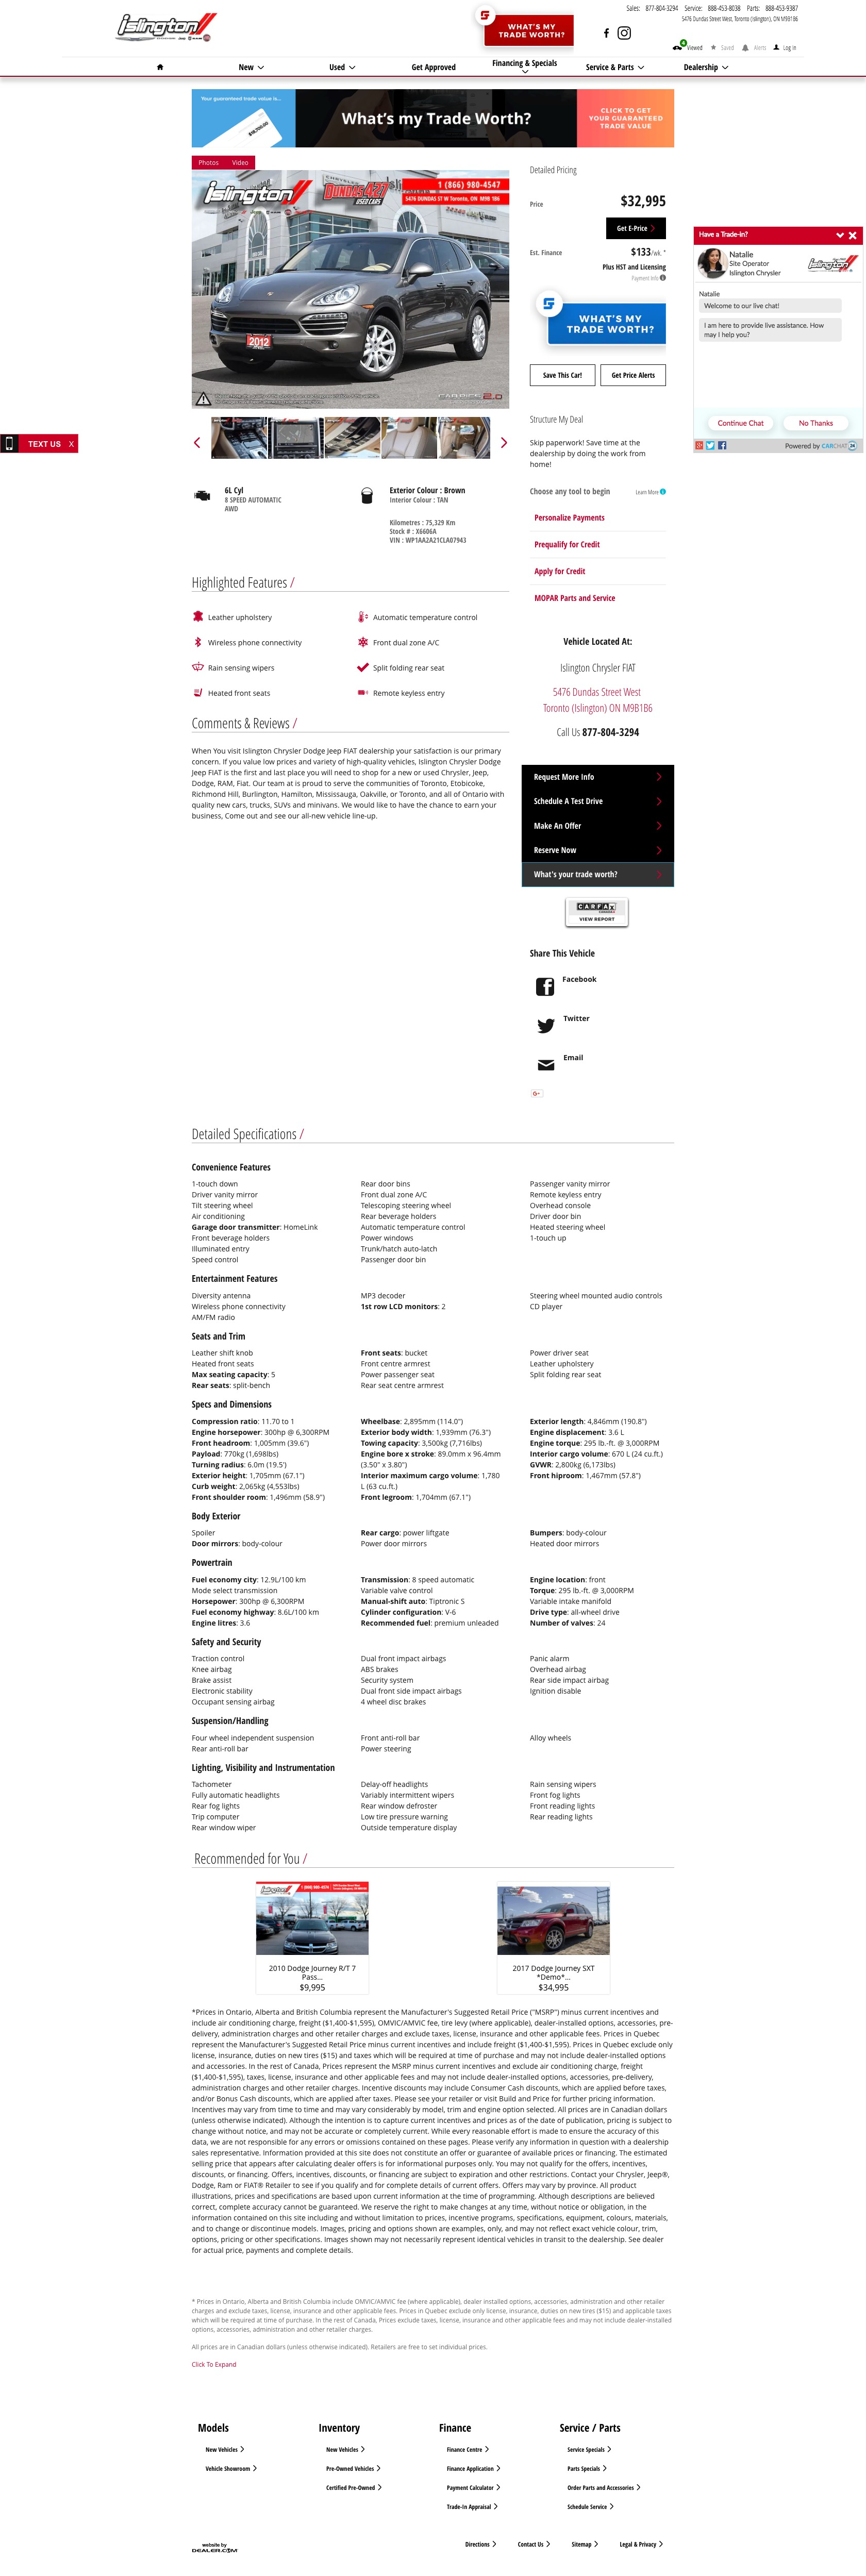car: (501, 437, 508, 448)
